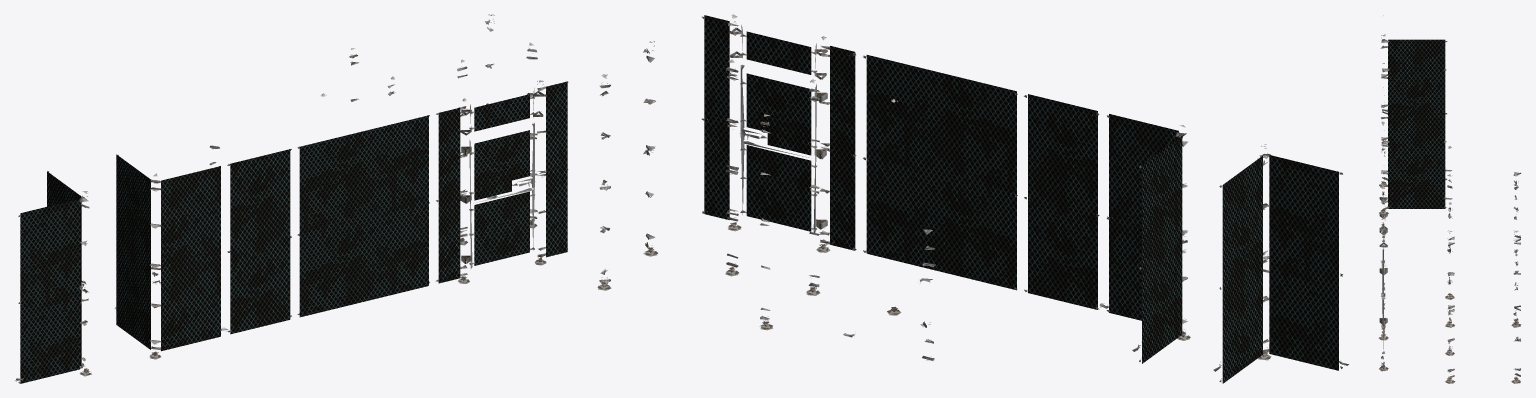
Rendered from modular_chainlink_fence.glb.
3 views of the same model, side by side, from view 1: azimuth 30°, elevation 25°; view 2: azimuth 150°, elevation 25°; view 3: azimuth 270°, elevation 25° (orthographic). The views are drawn at different scales.
Visible parts, largest first — view 1: modular_chainlink_fence_door_latch; view 2: modular_chainlink_fence_door_latch; view 3: modular_chainlink_fence_door_latch.
Part boxes in pixels (x1,y1,x2,y2): modular_chainlink_fence_door_latch: (14,14,568,383); modular_chainlink_fence_door_latch: (597,14,1348,383); modular_chainlink_fence_door_latch: (1378,15,1521,383).
Bounding box in the file's own units: 8.12 × 2.53 × 2.16.
2 materials, 2 textured.
